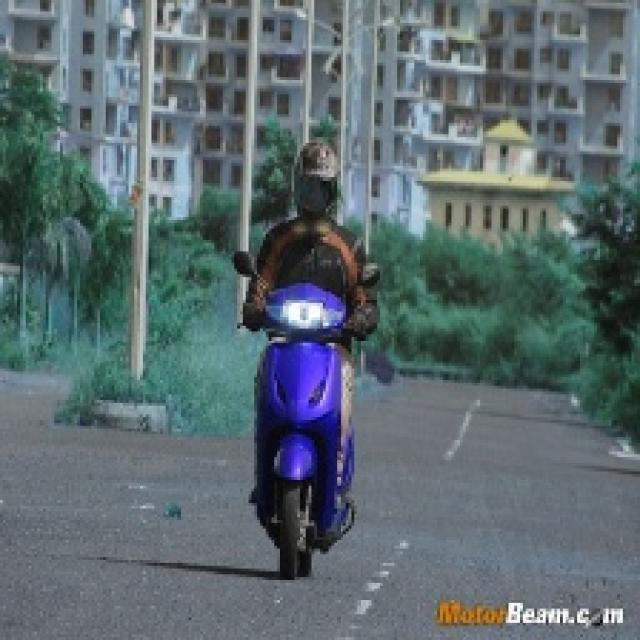bike: (238, 255, 366, 594)
